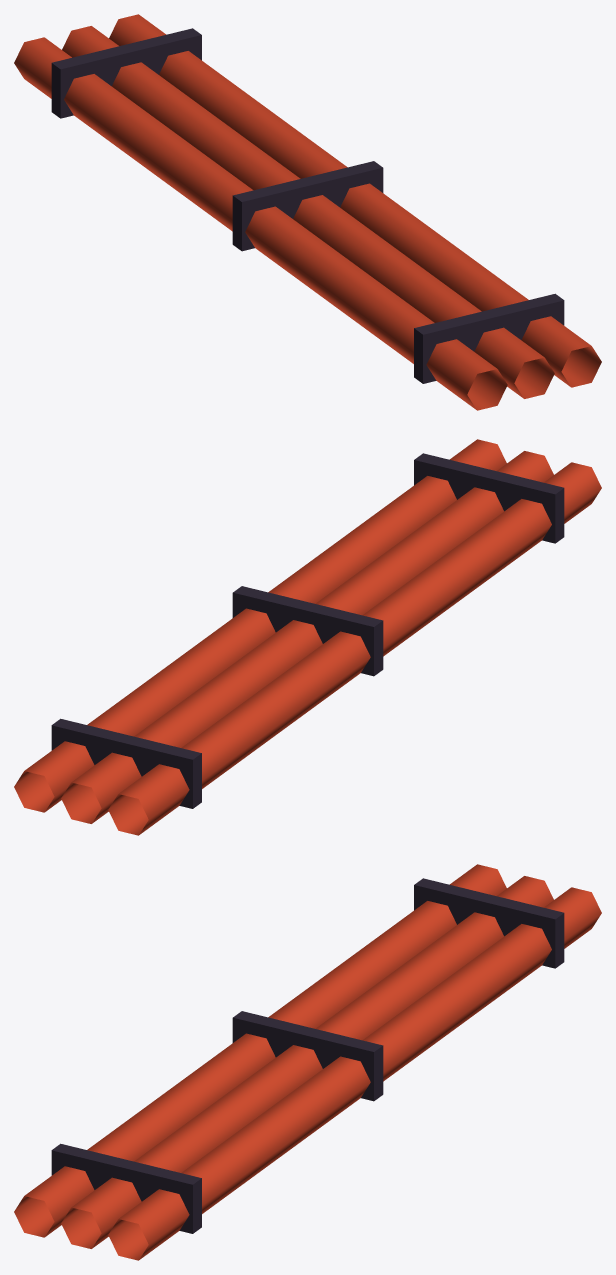
File: Cables3-Straight_100cm_01.fbx
3 renders of one model, top to bottom at view 1: azimuth 30°, elevation 25°; view 2: azimuth 150°, elevation 25°; view 3: azimuth 330°, elevation 25°, orthographic.
Visible parts, largest first — view 1: Cables3-Straight_100cm_01; view 2: Cables3-Straight_100cm_01; view 3: Cables3-Straight_100cm_01.
Boxes of the visible parts, left/top/right/bottom form: Cables3-Straight_100cm_01: left=14, top=14, right=601, bottom=410; Cables3-Straight_100cm_01: left=14, top=439, right=601, bottom=835; Cables3-Straight_100cm_01: left=14, top=864, right=601, bottom=1260.
Bounding box in the file's own units: 0.18 × 0.0601 × 1.
